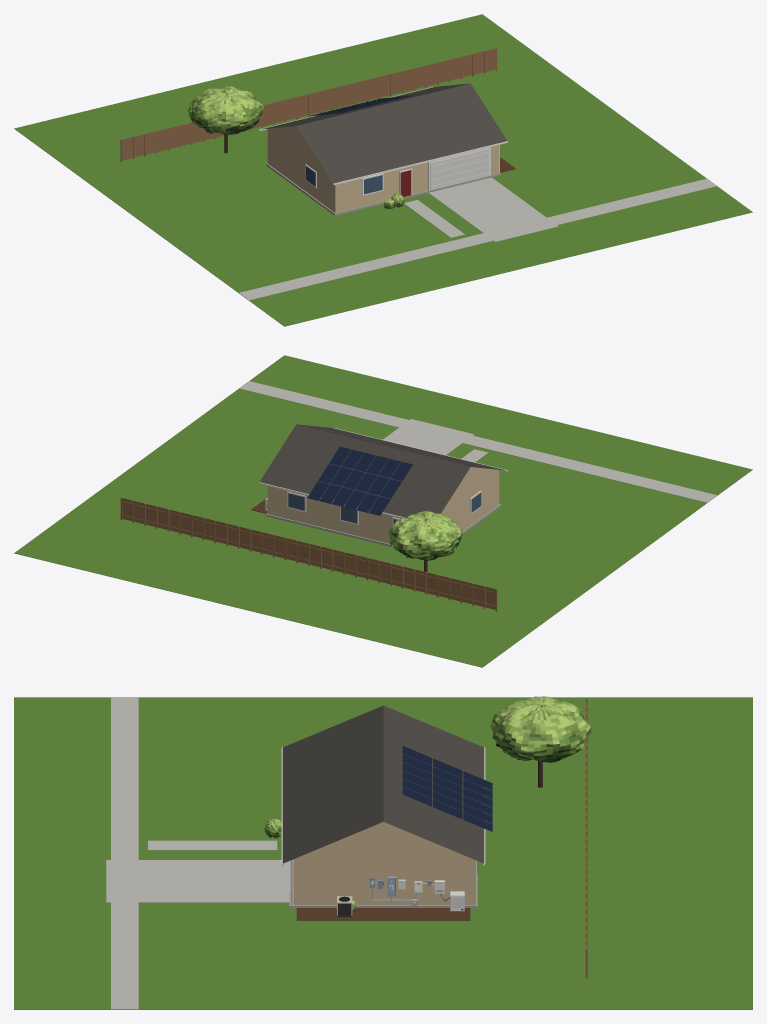
Rendered from home_07_post_install.obj.
3 renders of one model, top to bottom at view 1: azimuth 30°, elevation 25°; view 2: azimuth 150°, elevation 25°; view 3: azimuth 270°, elevation 25°, orthographic. The views are drawn at different scales.
Visible parts, largest first — view 1: yard, house, tree_1; view 2: yard, house, solar_array, tree_1; view 3: yard, house, tree_1, solar_array, mulch_bed_side.
Part boxes in pixels (left/top/right/bottom): yard: left=14, top=14, right=752, bottom=326; house: left=259, top=83, right=507, bottom=215; tree_1: left=188, top=86, right=263, bottom=153; yard: left=14, top=355, right=752, bottom=667; house: left=259, top=424, right=507, bottom=546; solar_array: left=307, top=446, right=412, bottom=515; tree_1: left=388, top=511, right=462, bottom=572; yard: left=14, top=697, right=752, bottom=1009; house: left=281, top=705, right=485, bottom=908; tree_1: left=490, top=696, right=592, bottom=787; solar_array: left=402, top=746, right=492, bottom=831; mulch_bed_side: left=296, top=908, right=470, bottom=920.
Bounding box in the file's own units: 40 × 5.38 × 40.
